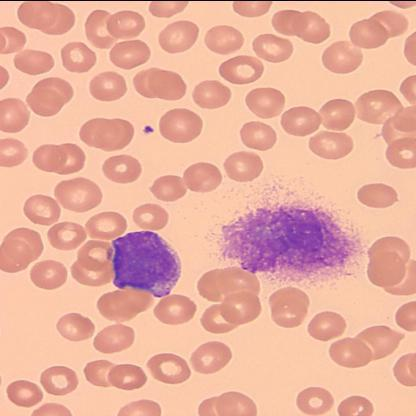Promyelocyte: (110, 230, 183, 298)
